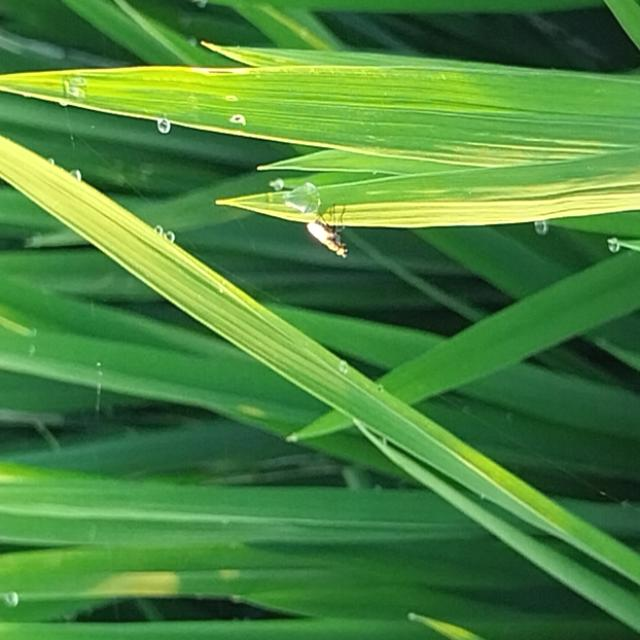Wereng: (302, 210, 359, 273)
